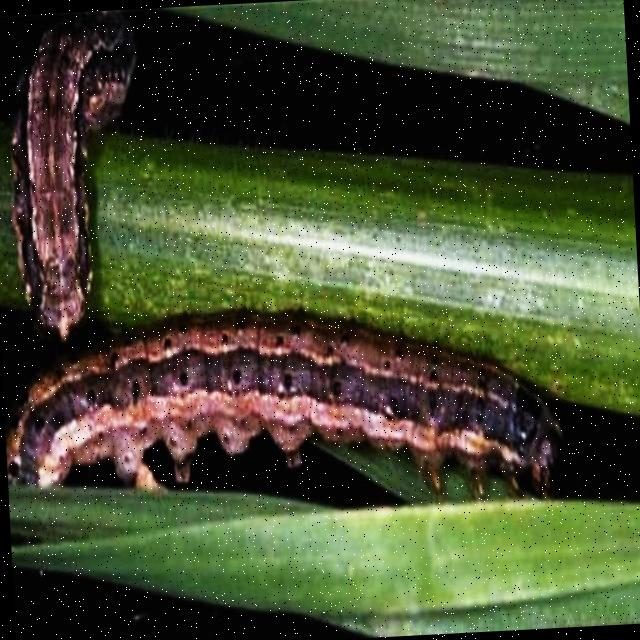worm: (1, 293, 567, 528), (1, 10, 152, 344)
